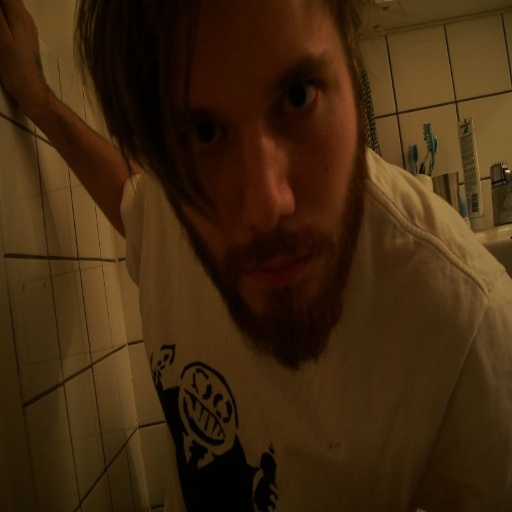hand: (8, 10, 87, 172)
